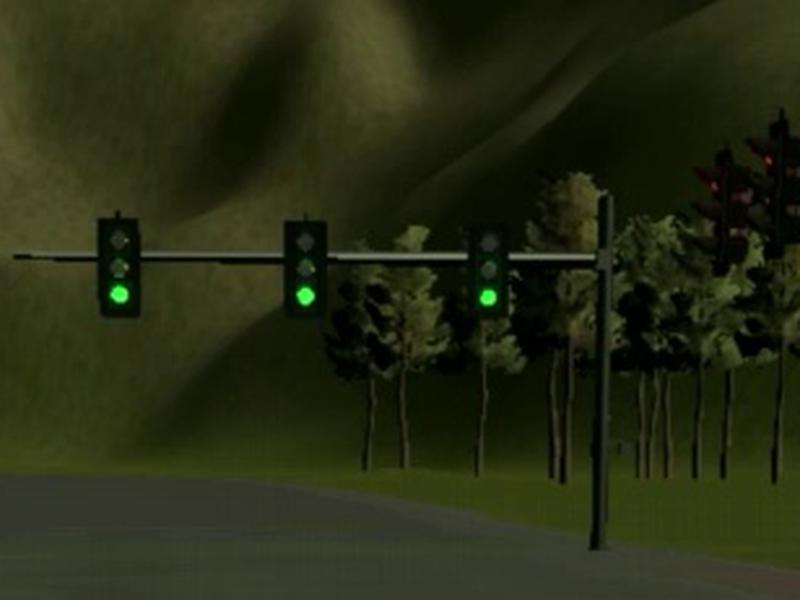Green: (284, 221, 327, 319), (97, 217, 139, 317), (468, 226, 509, 318)
